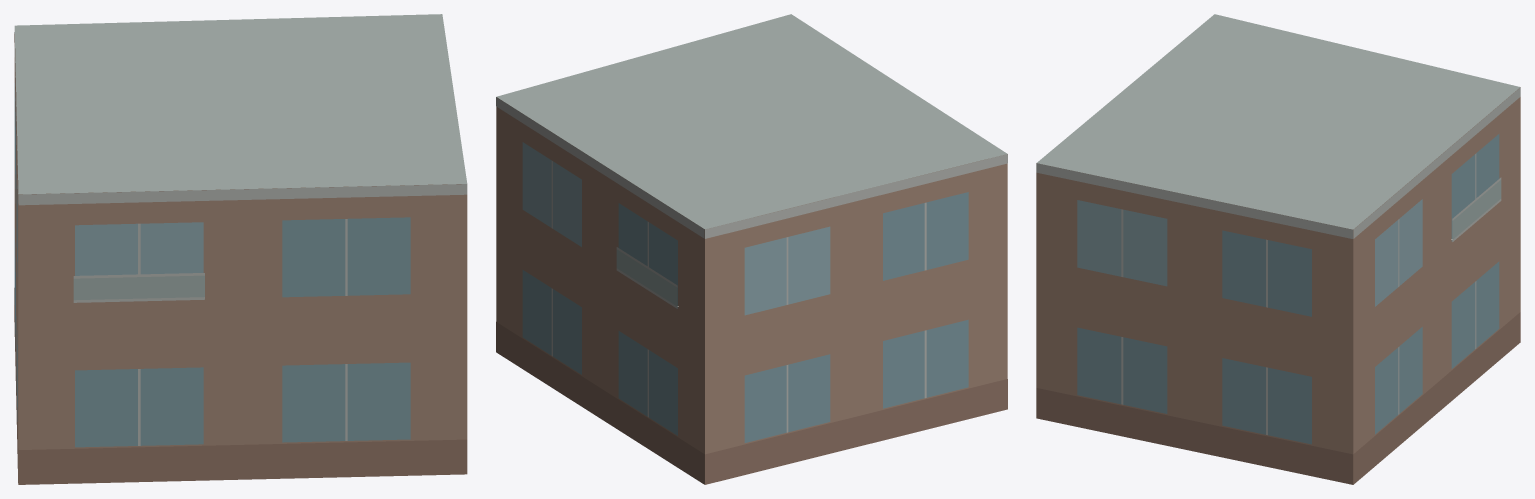
Rendered from survey-upis-32612417.glb.
The picture shows the model from 3 angles, left to right: view 1: azimuth 30°, elevation 25°; view 2: azimuth 150°, elevation 25°; view 3: azimuth 270°, elevation 25°; orthographic projection. The views are drawn at different scales.
Visible parts, largest first — view 1: survey-upis-32612417.tmp; view 2: survey-upis-32612417.tmp; view 3: survey-upis-32612417.tmp.
Boxes of the visible parts, x1,y1,x2,y2 form: survey-upis-32612417.tmp: [14, 14, 467, 484]; survey-upis-32612417.tmp: [496, 14, 1007, 484]; survey-upis-32612417.tmp: [1036, 14, 1520, 484].
Bounding box in the file's own units: 11.79 × 6.5 × 11.18.
